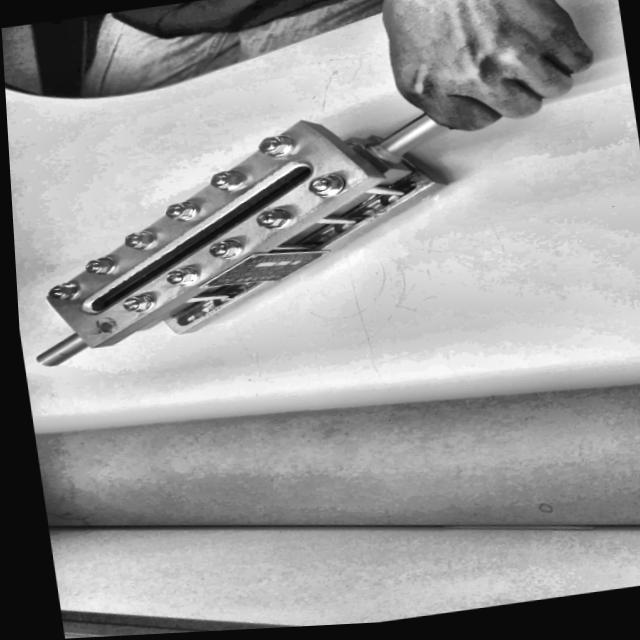ShuiWeiQi_11: (8, 88, 458, 400)
